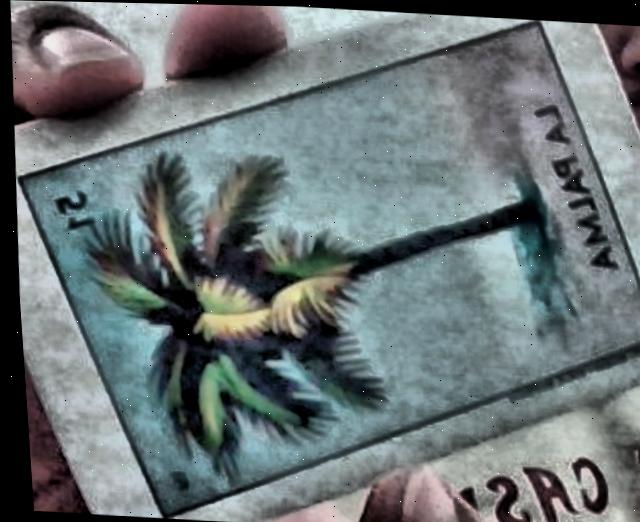La Palma: (14, 19, 640, 516)
